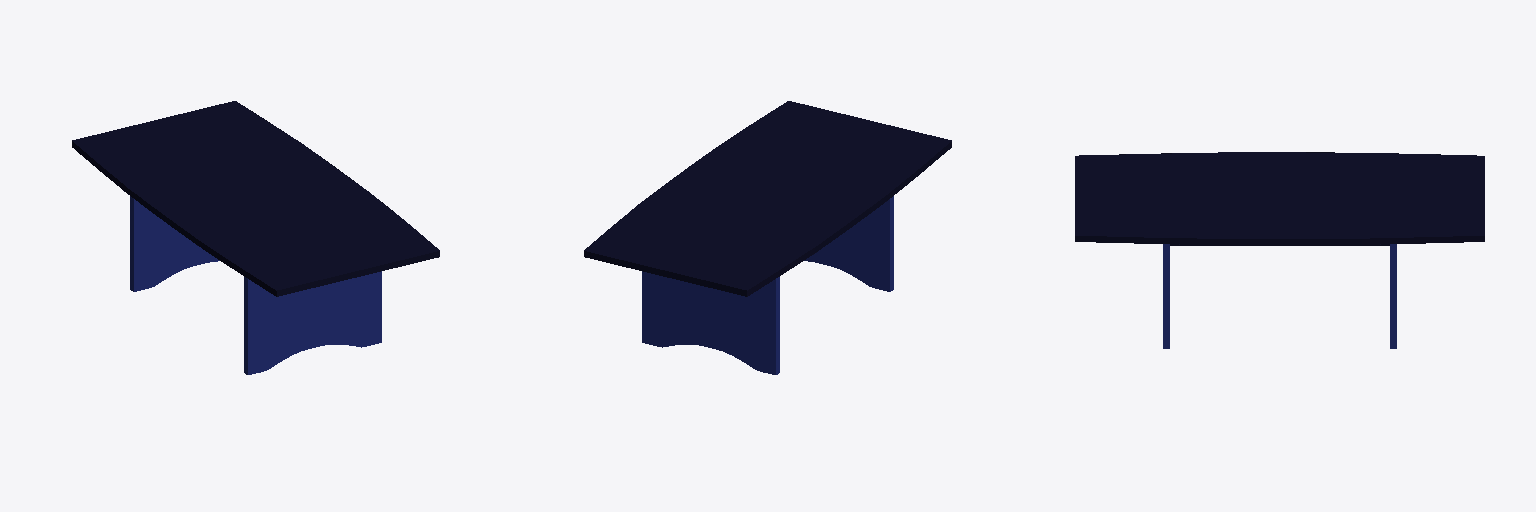
The model's file is table.obj.
3 views of the same model, side by side, from view 1: azimuth 30°, elevation 25°; view 2: azimuth 150°, elevation 25°; view 3: azimuth 270°, elevation 25° (orthographic).
Visible parts, largest first — view 1: Box04, Box02, Box01; view 2: Box04, Box01, Box02; view 3: Box04, Box02, Box01.
Part boxes in pixels (bbox=[...]): Box04: bbox=[72, 101, 439, 296]; Box02: bbox=[244, 271, 381, 374]; Box01: bbox=[130, 196, 219, 291]; Box04: bbox=[584, 101, 951, 296]; Box01: bbox=[642, 271, 779, 374]; Box02: bbox=[804, 196, 893, 291]; Box04: bbox=[1075, 152, 1484, 244]; Box02: bbox=[1163, 244, 1169, 348]; Box01: bbox=[1390, 244, 1396, 348].
Size of the model in its own units: 2.56 by 1.66 by 5.12.